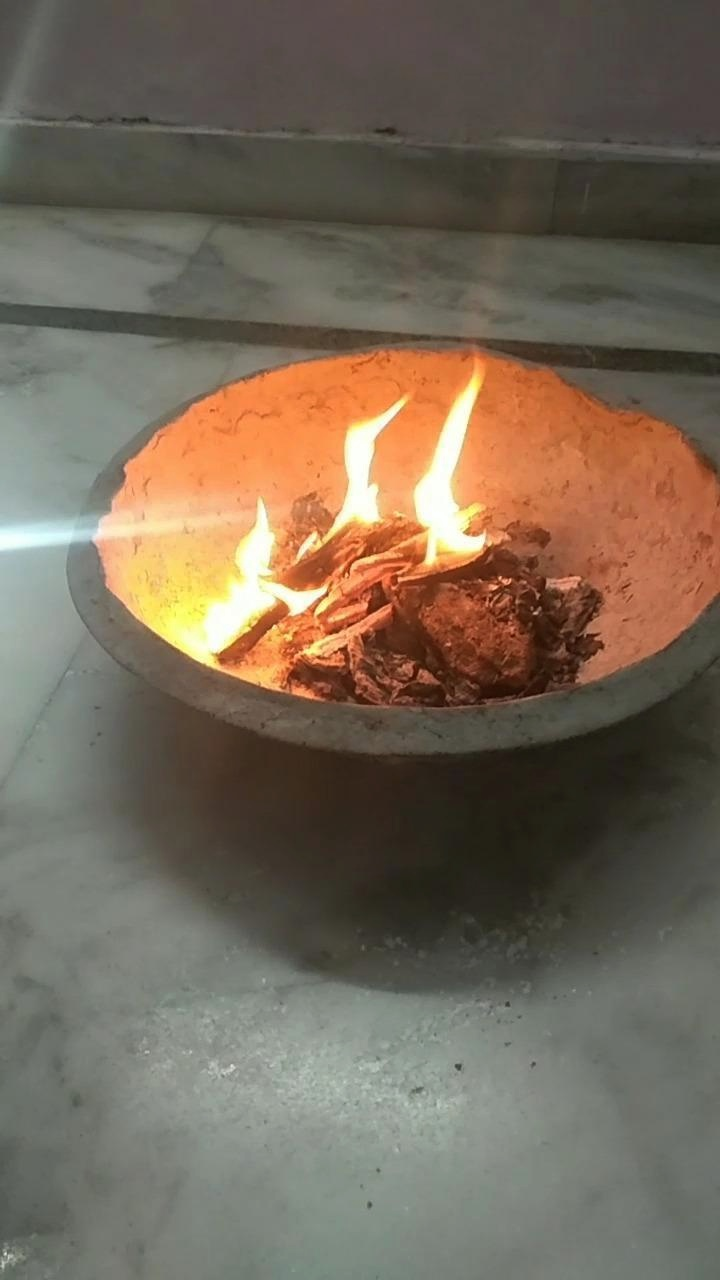fire: (240, 361, 493, 588)
